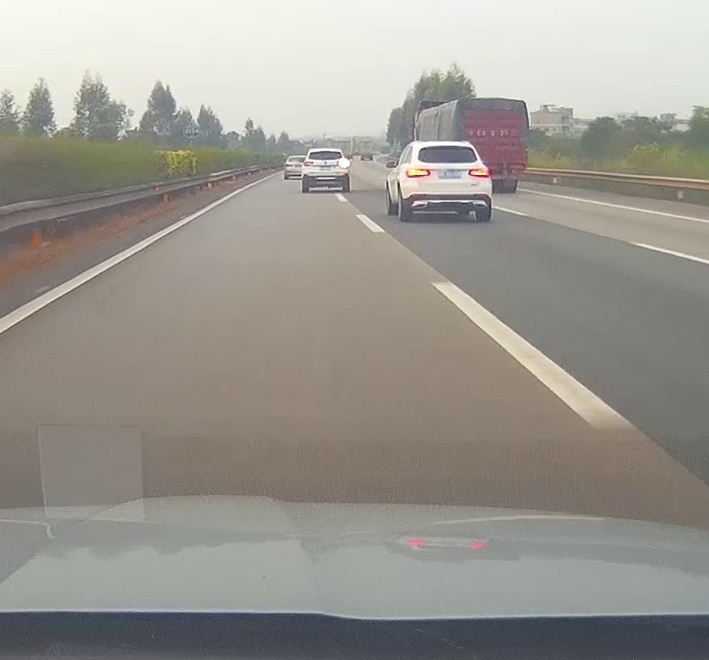L_light: (405, 168, 431, 178), (304, 161, 314, 167)
R_light: (467, 168, 490, 177), (336, 160, 347, 166)
T_light: (440, 146, 451, 147), (320, 151, 330, 152)
day-no: (400, 141, 492, 222)
day-right: (301, 148, 350, 193)
